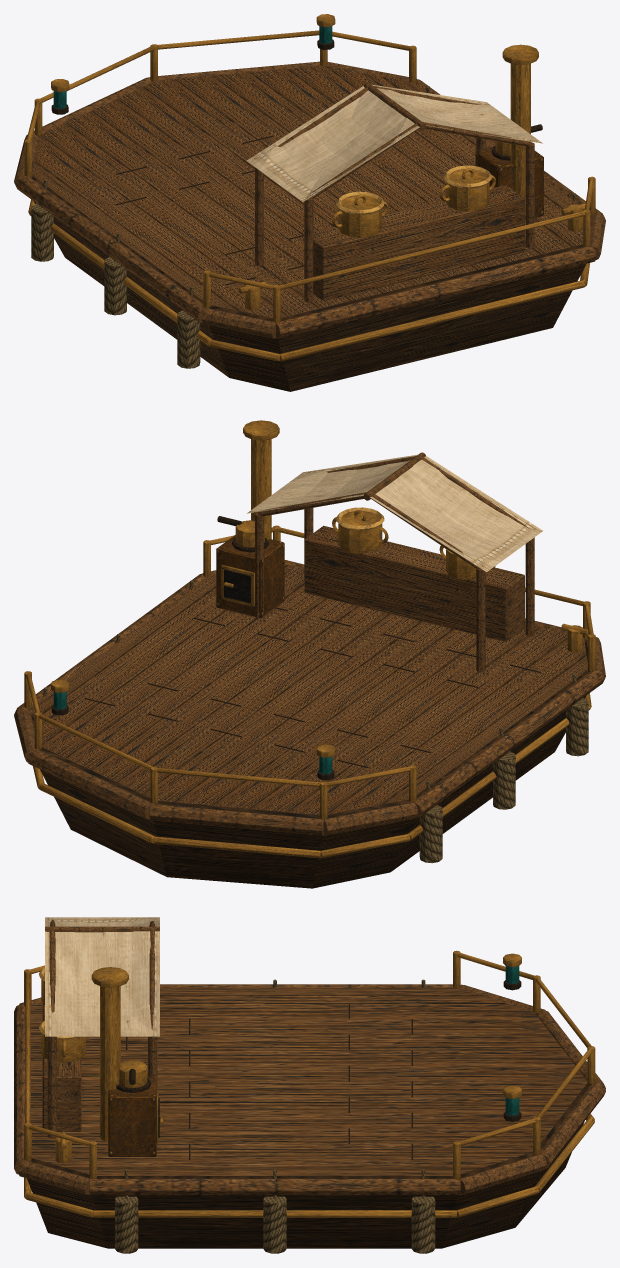
The model's file is kitchen-scow.glb.
3 views of the same model, one above another, from view 1: azimuth 30°, elevation 25°; view 2: azimuth 150°, elevation 25°; view 3: azimuth 270°, elevation 25° (orthographic).
Parts seen in each view (by area): view 1: kitchen-scow; view 2: kitchen-scow; view 3: kitchen-scow.
Boxes of the visible parts, x1,y1,x2,y2 form: kitchen-scow: (14,14,605,391); kitchen-scow: (14,420,605,888); kitchen-scow: (14,917,605,1253).
Bounding box in the file's own units: 6.44 × 3.83 × 7.98.
2 materials, 2 textured.
